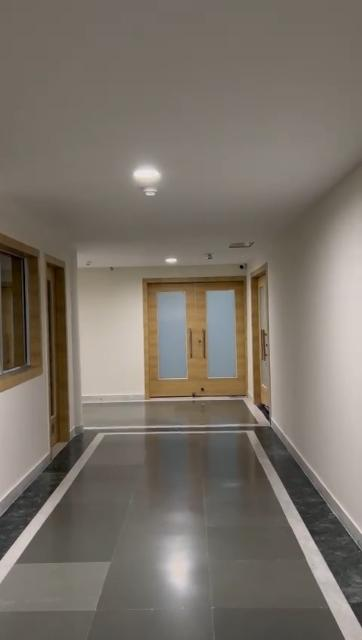door: (145, 279, 246, 396), (44, 256, 70, 447), (251, 274, 271, 406)
floor: (4, 403, 362, 640)
wall: (266, 166, 362, 523), (0, 191, 83, 422), (81, 268, 143, 393), (2, 376, 50, 495)
